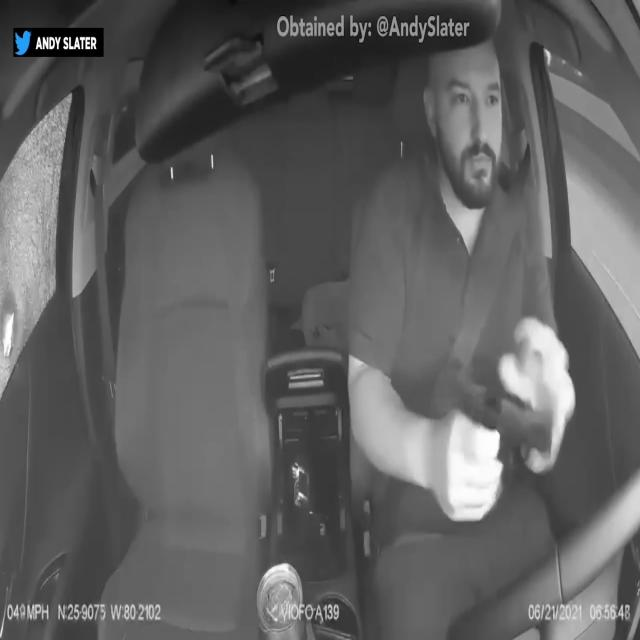senjata_api: (452, 365, 554, 473)
